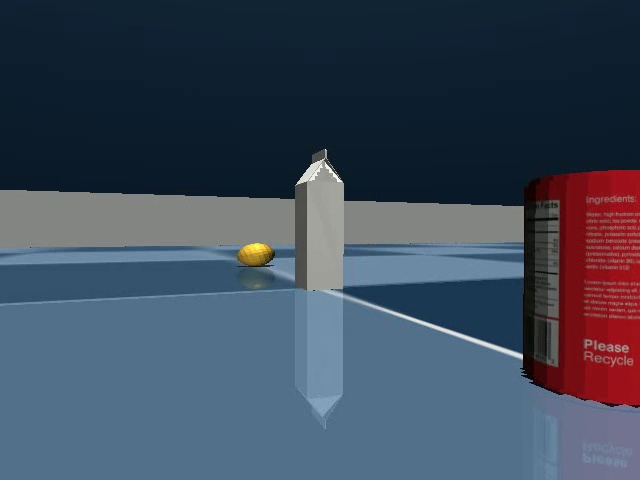can: (513, 158, 640, 417)
lemon: (232, 237, 279, 270)
milk: (290, 144, 350, 296)
